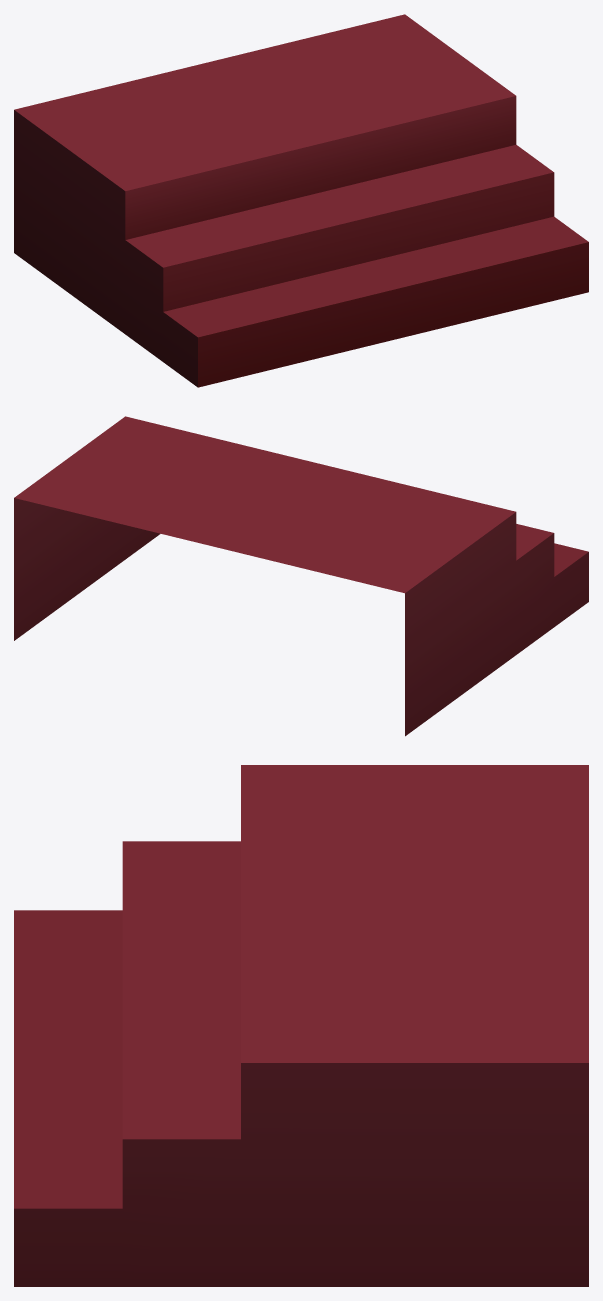
Rendered from Stairs_02A.fbx.
3 renders of one model, top to bottom at view 1: azimuth 30°, elevation 25°; view 2: azimuth 150°, elevation 25°; view 3: azimuth 270°, elevation 25°, orthographic. The views are drawn at different scales.
Visible parts, largest first — view 1: Stairs_02A; view 2: Stairs_02A; view 3: Stairs_02A.
Part boxes in pixels (x1,y1,x2,y2): Stairs_02A: (14,14,588,387); Stairs_02A: (14,416,588,736); Stairs_02A: (14,765,588,1286).
Bounding box in the file's own units: 154 × 53.98 × 126.
1 material, 1 textured.
